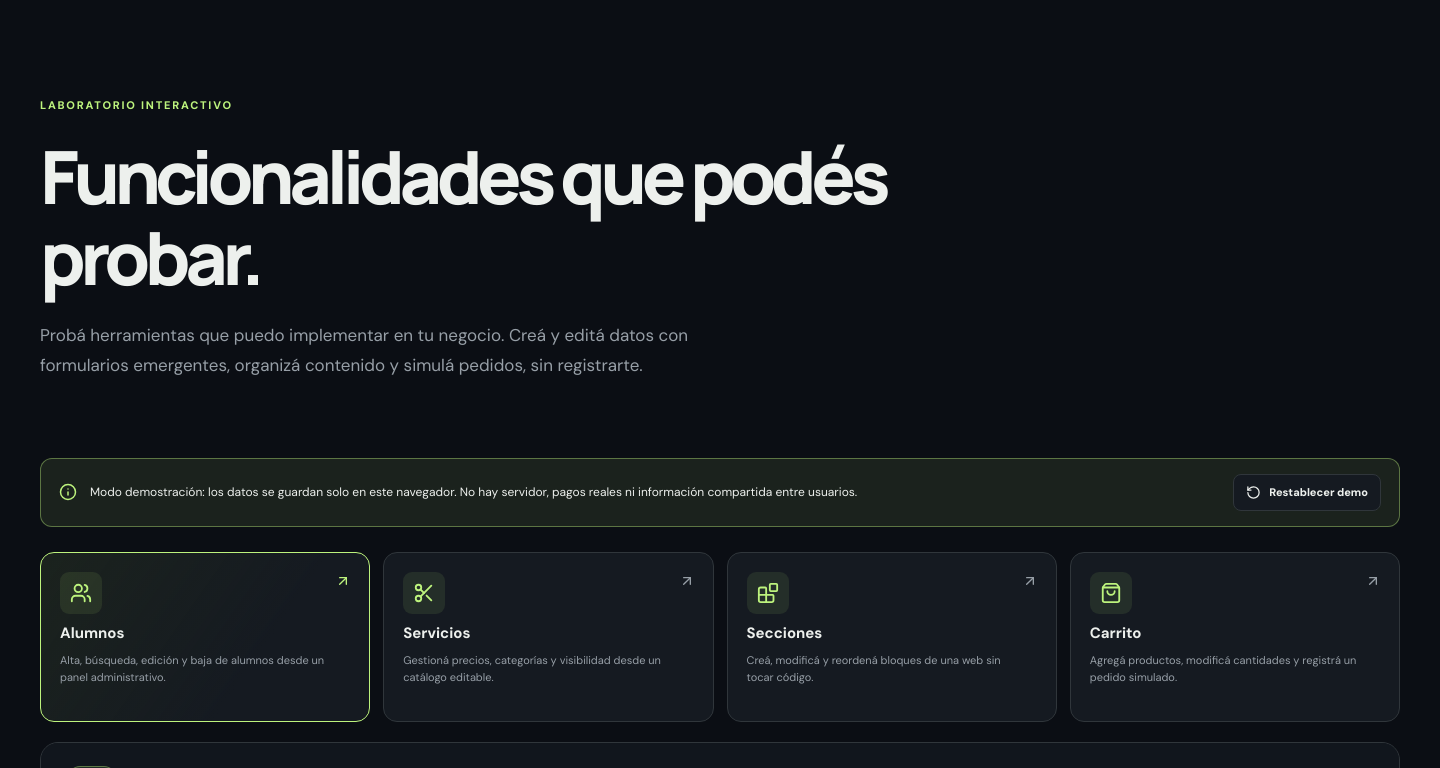
Test: Laboratory — additional business workflow regressions › toggles a service visibility and removes it only after confirmation
Click the tab "Servicios".
click(424, 593)  # box [383,552,714,722]
(page scrolled)
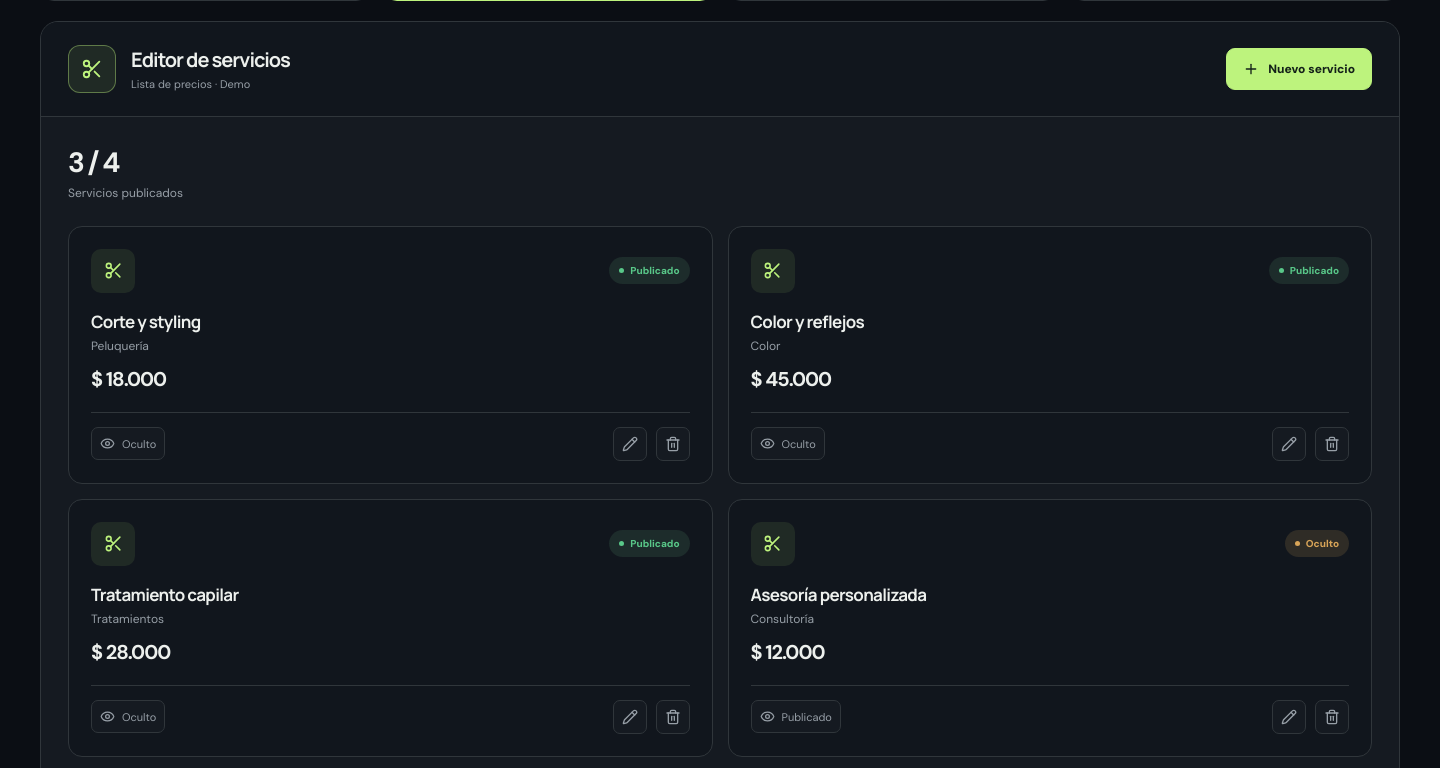
Click the button "Oculto" below "$ 18.000".
click(128, 444)  # box [91,427,165,460]
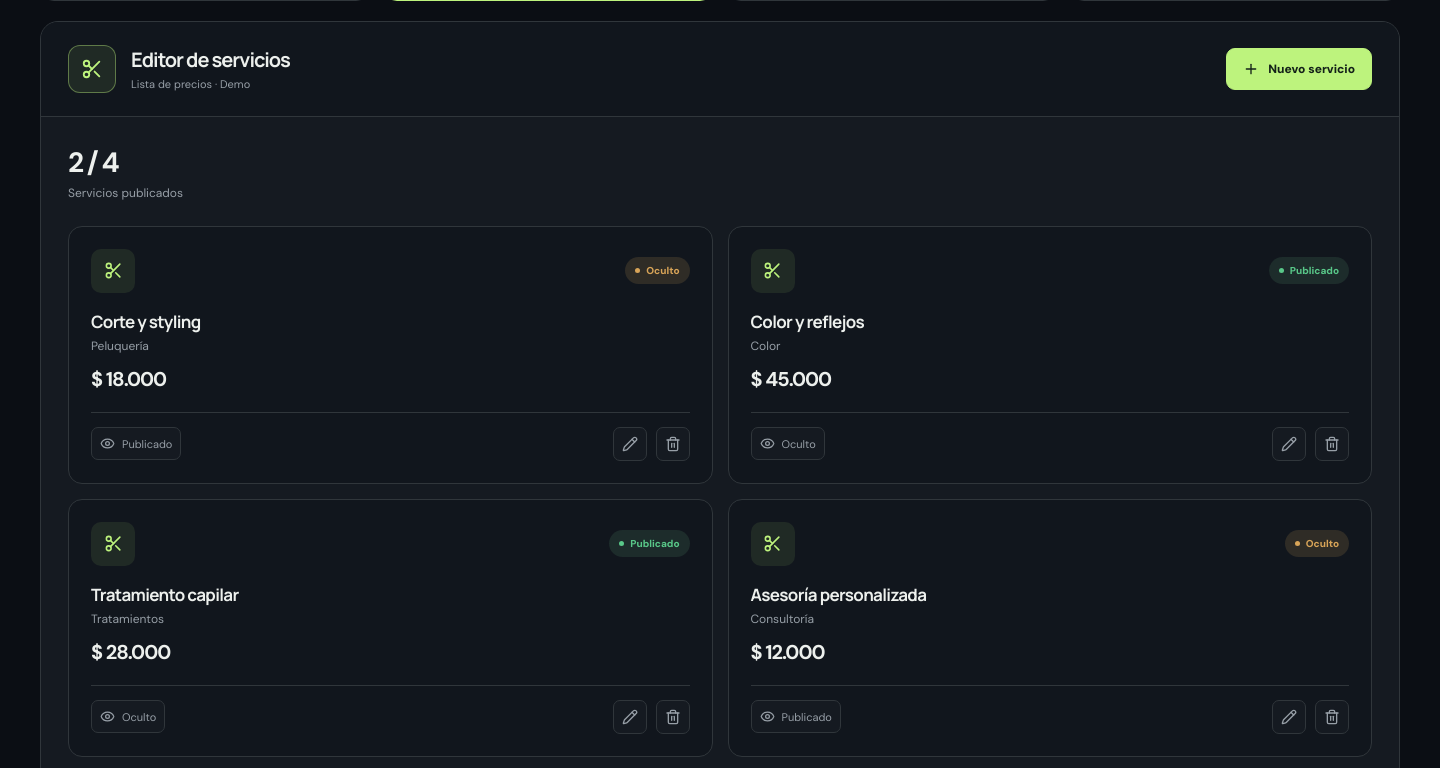
Click the button named "Eliminar: Corte y styling".
click(672, 444)  # box [656,427,690,461]
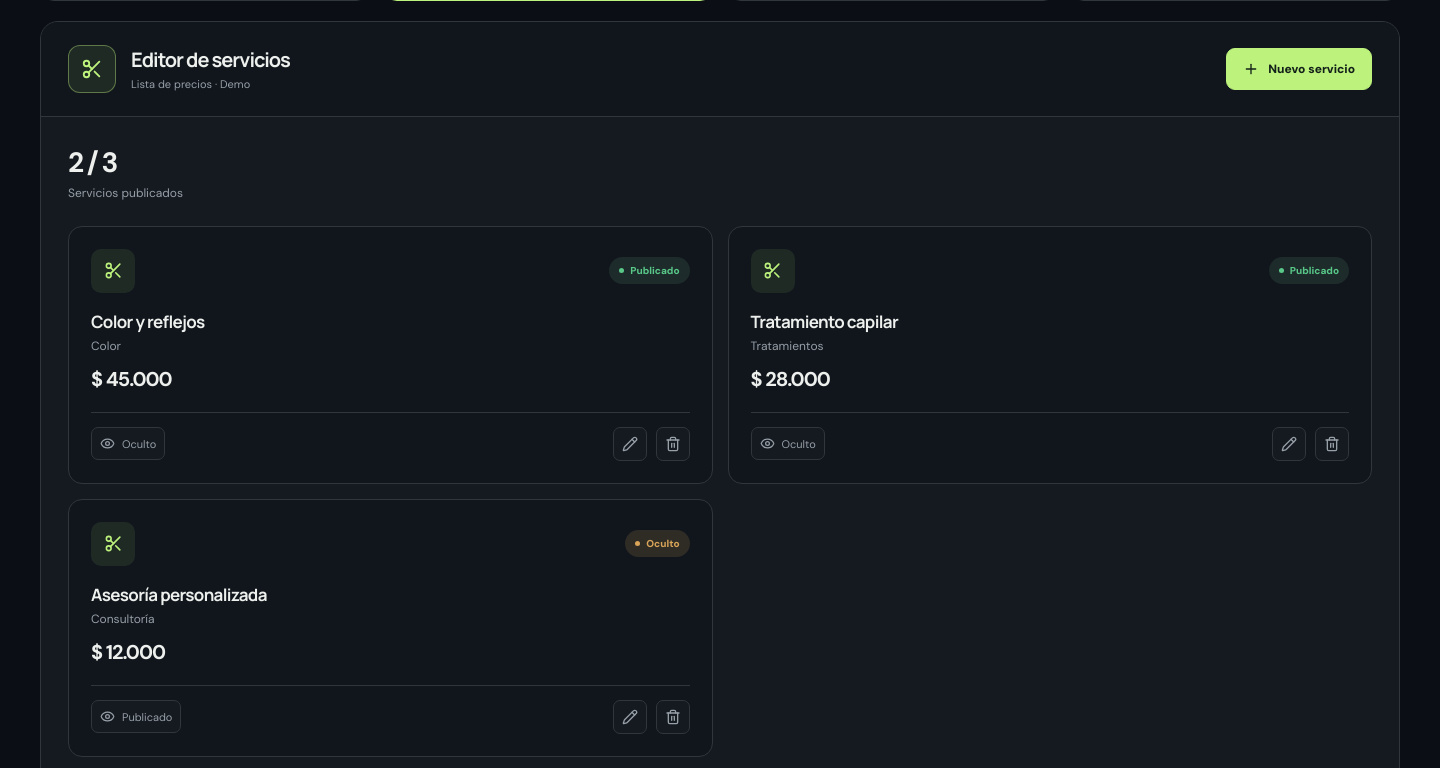
Check: the heading "Corte y styling" is gone
